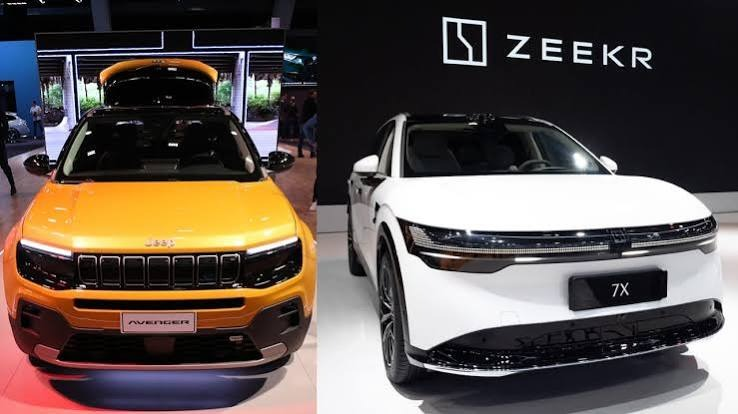car: (1, 40, 317, 401), (344, 105, 733, 393)
